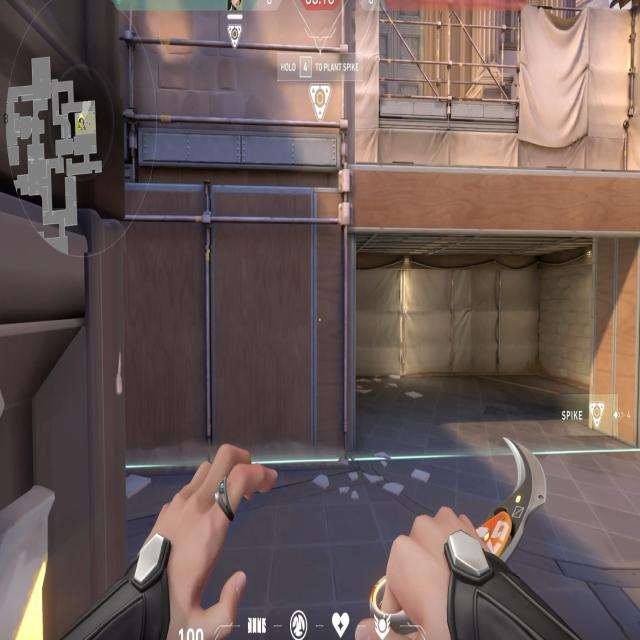A_Hell: (339, 148, 640, 465)
